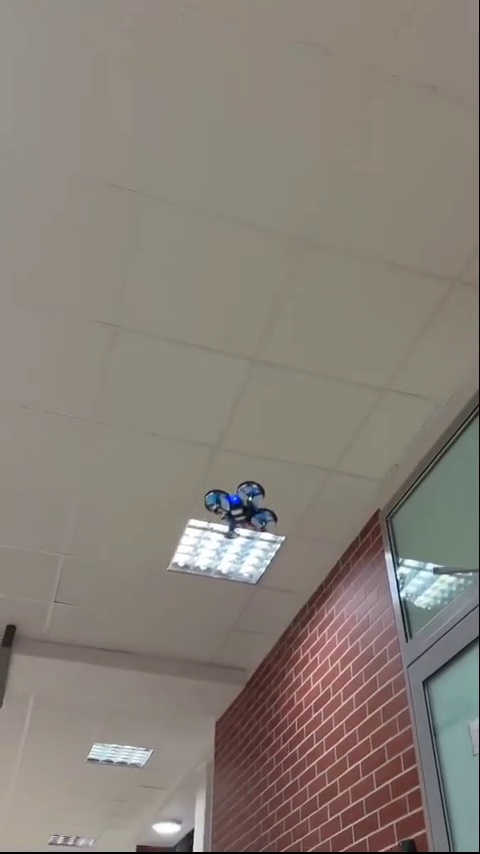drone: (200, 479, 295, 545)
